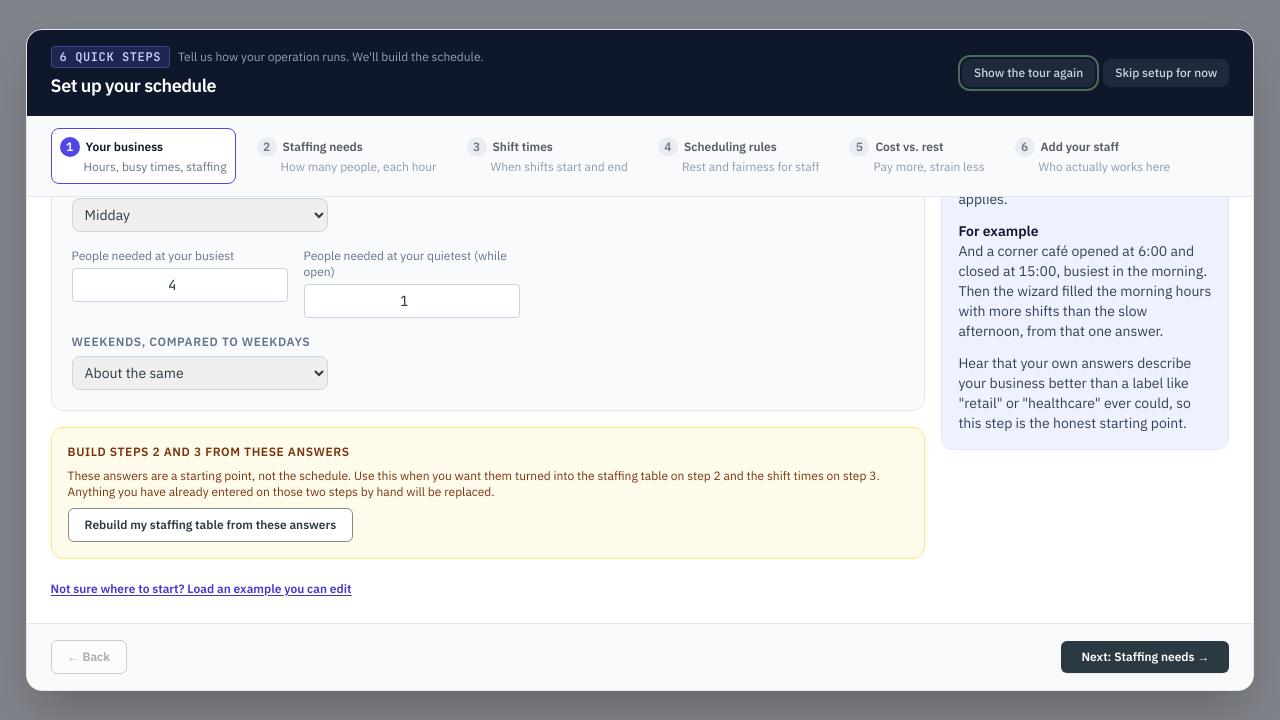
OnboardingWizard preset solve failures › marks a preset the engine cannot schedule in the picker itself
(page scrolled)
Step 1. Click the button "Not sure where to start? Load an example you can edit" → (201, 589), box [51,581,352,597]
(page scrolled)
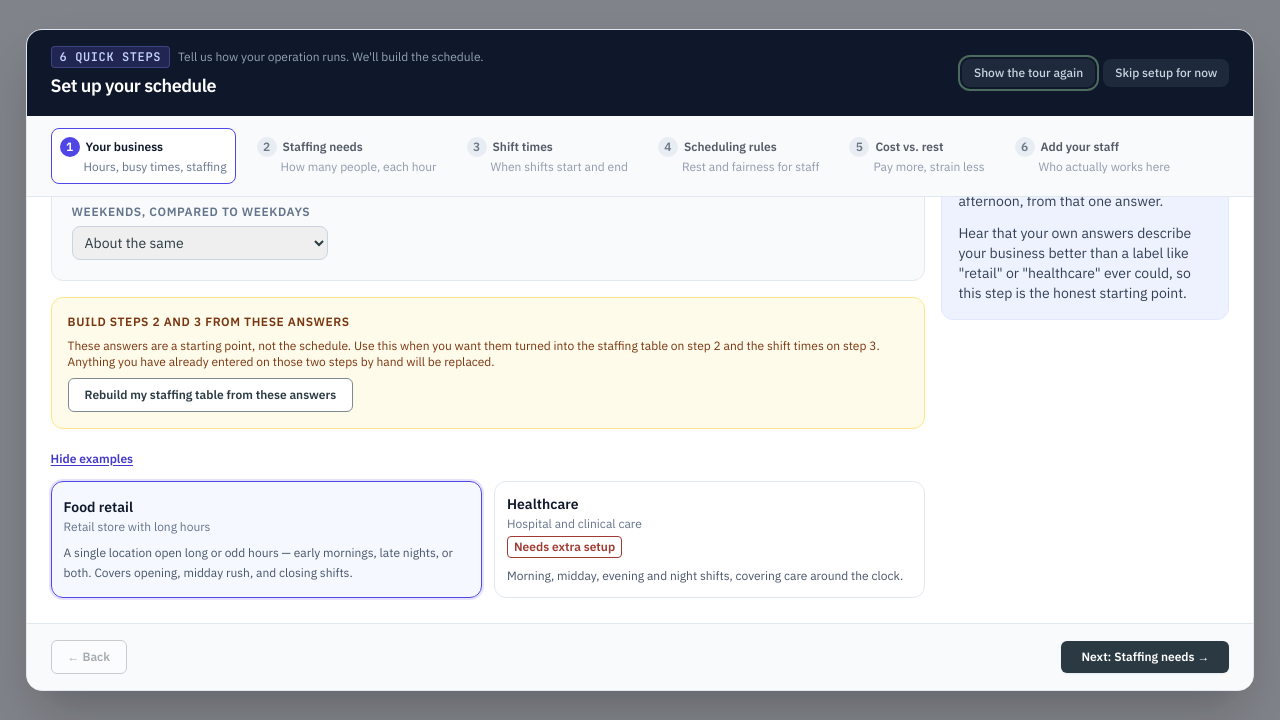
Expected: the button "Food retail" does not show "Needs extra setup"
Now the button "Healthcare" shows "Needs extra setup", box [494,481,925,598]
